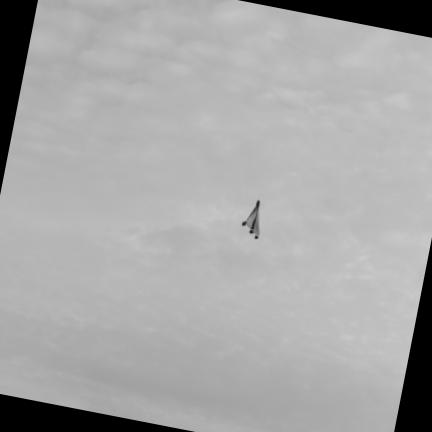Shahed: (242, 201, 260, 239)
